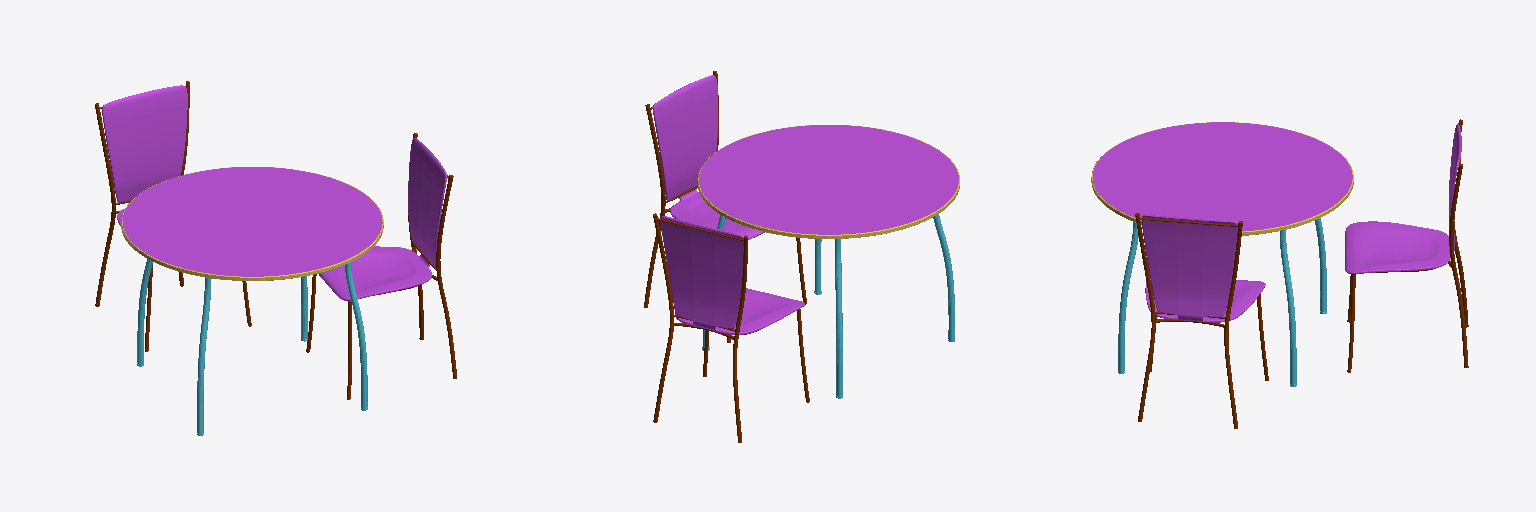
3 views of the same model, side by side, from view 1: azimuth 30°, elevation 25°; view 2: azimuth 150°, elevation 25°; view 3: azimuth 270°, elevation 25° (orthographic).
Visible parts, largest first — view 1: Archmodels70_006_05, Archmodels70_006_01, Archmodels70_006_10, Archmodels70_006_06, Archmodels70_006_08, Archmodels70_006_02, Archmodels70_006_07; view 2: Archmodels70_006_05, Archmodels70_006_01, Archmodels70_006_10, Archmodels70_006_02, Archmodels70_006_06, Archmodels70_006_07, Archmodels70_006_08; view 3: Archmodels70_006_05, Archmodels70_006_10, Archmodels70_006_01, Archmodels70_006_06, Archmodels70_006_08, Archmodels70_006_02, Archmodels70_006_07.
Boxes of the visible parts, x1,y1,x2,y2 form: Archmodels70_006_05: [122, 167, 382, 276]; Archmodels70_006_01: [102, 85, 187, 225]; Archmodels70_006_10: [319, 138, 446, 300]; Archmodels70_006_06: [137, 259, 367, 433]; Archmodels70_006_08: [306, 134, 456, 398]; Archmodels70_006_02: [95, 83, 251, 350]; Archmodels70_006_07: [121, 167, 383, 280]; Archmodels70_006_05: [699, 125, 958, 234]; Archmodels70_006_01: [660, 216, 804, 334]; Archmodels70_006_10: [653, 75, 764, 239]; Archmodels70_006_02: [653, 216, 809, 441]; Archmodels70_006_06: [703, 214, 954, 396]; Archmodels70_006_07: [698, 125, 959, 238]; Archmodels70_006_08: [644, 72, 806, 341]; Archmodels70_006_05: [1093, 122, 1352, 230]; Archmodels70_006_10: [1142, 214, 1265, 322]; Archmodels70_006_01: [1345, 124, 1461, 273]; Archmodels70_006_06: [1118, 218, 1326, 384]; Archmodels70_006_08: [1135, 215, 1268, 427]; Archmodels70_006_02: [1347, 121, 1468, 371]; Archmodels70_006_07: [1091, 122, 1353, 235].
Size of the model in its own units: 56.06 by 37.75 by 62.79.